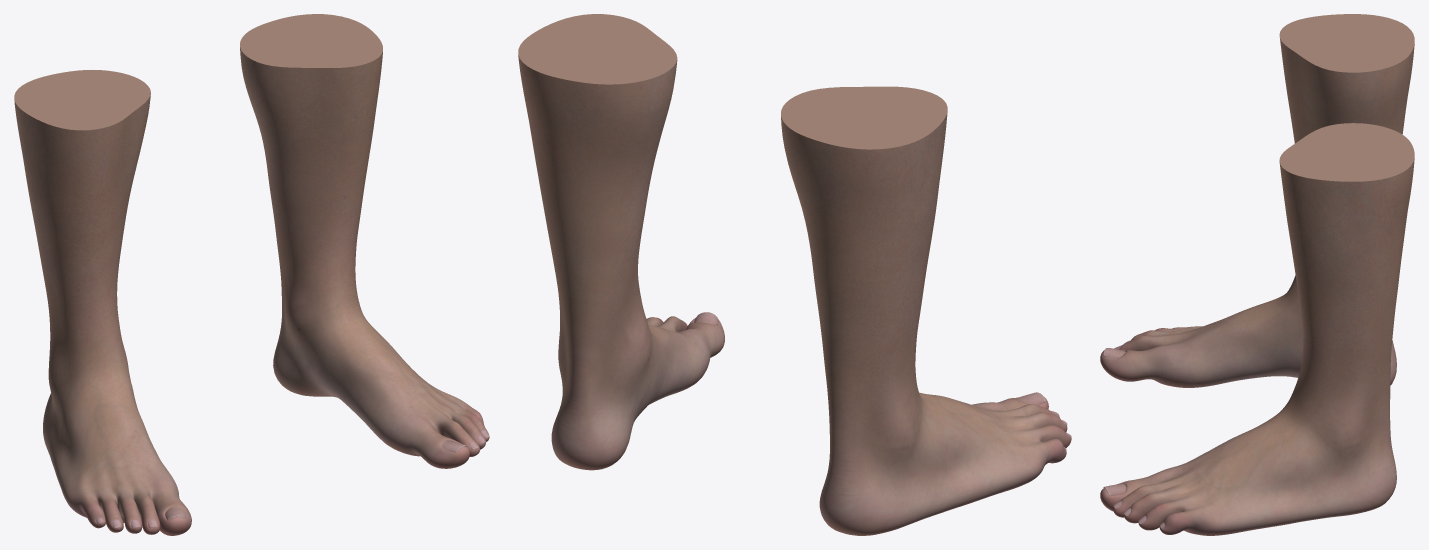
The model's file is male-feet-shins.glb.
The picture shows the model from 3 angles, left to right: view 1: azimuth 30°, elevation 25°; view 2: azimuth 150°, elevation 25°; view 3: azimuth 270°, elevation 25°; orthographic projection. The views are drawn at different scales.
Visible parts, largest first — view 1: LeftFootAndShin, RightFootAndShin; view 2: RightFootAndShin, LeftFootAndShin; view 3: LeftFootAndShin, RightFootAndShin.
Boxes of the visible parts, x1,y1,x2,y2 form: LeftFootAndShin: [240, 14, 489, 468]; RightFootAndShin: [14, 70, 191, 535]; RightFootAndShin: [781, 86, 1071, 535]; LeftFootAndShin: [518, 14, 724, 470]; LeftFootAndShin: [1100, 123, 1414, 535]; RightFootAndShin: [1100, 14, 1414, 387].
Bounding box in the file's own units: 0.3789 × 0.3231 × 0.2624.
2 materials, 2 textured.
